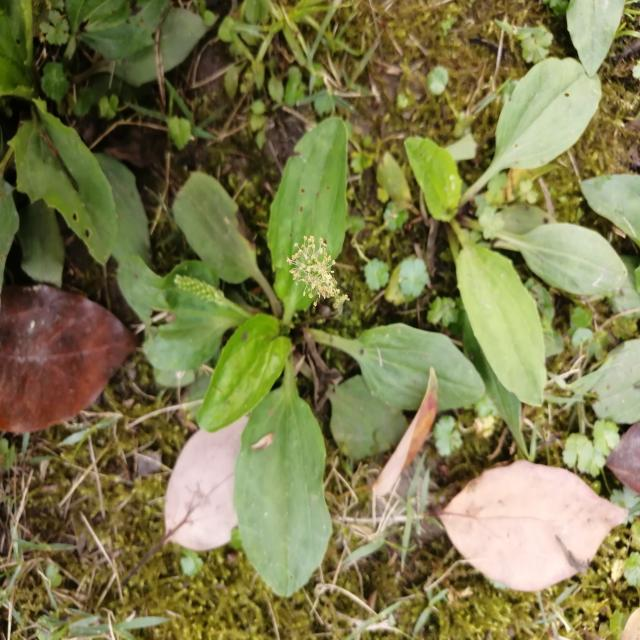plantain: (149, 174, 471, 566), (409, 70, 622, 402)
